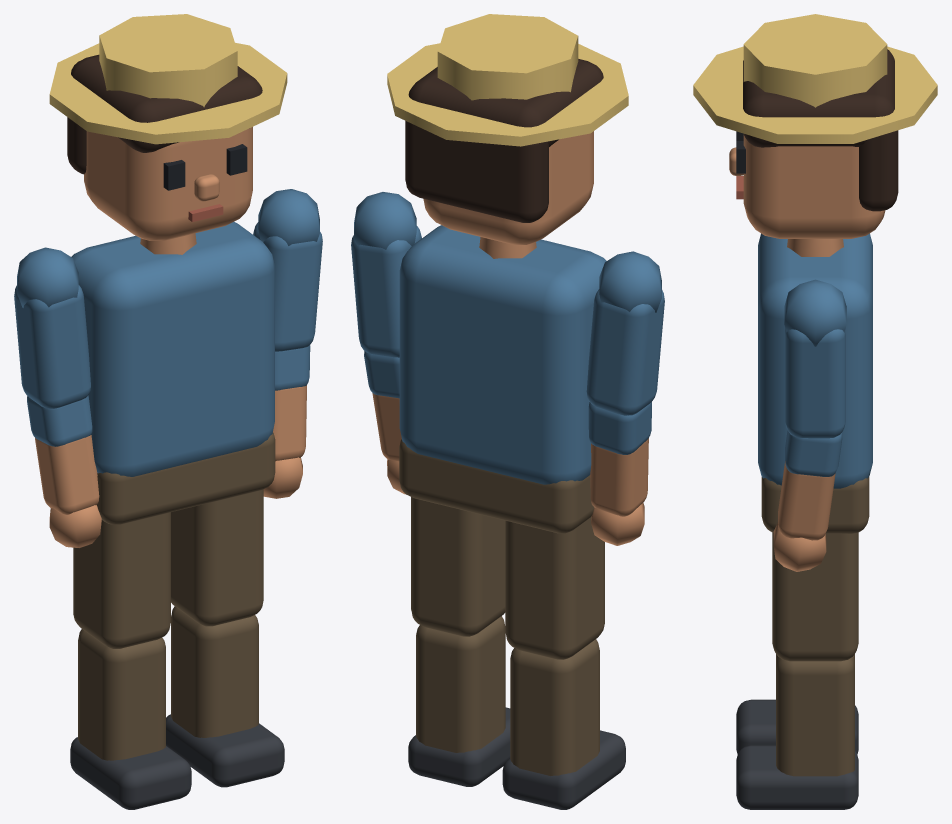
File: persona_trabajador.glb
3 views of the same model, side by side, from view 1: azimuth 30°, elevation 25°; view 2: azimuth 150°, elevation 25°; view 3: azimuth 270°, elevation 25° (orthographic).
Size of the model in its own units: 0.9009 by 2.06 by 0.6256.
